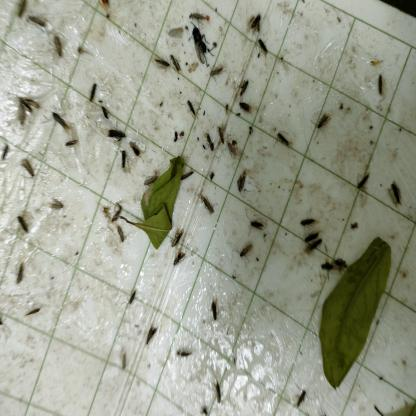prays_oleae: (13, 95, 41, 127), (388, 166, 406, 213), (47, 104, 72, 133), (12, 255, 30, 292), (18, 151, 36, 186), (245, 9, 265, 40), (232, 168, 251, 200), (25, 12, 48, 36), (51, 32, 68, 63), (302, 239, 323, 264), (198, 189, 216, 217), (293, 385, 310, 414), (168, 52, 184, 81), (316, 110, 333, 136), (236, 239, 253, 265), (176, 343, 195, 366), (213, 375, 226, 408), (106, 124, 126, 145), (14, 212, 30, 238), (170, 226, 187, 250), (249, 215, 267, 237), (277, 128, 292, 154), (22, 304, 42, 323), (200, 127, 215, 152), (47, 192, 64, 214), (59, 134, 78, 153), (116, 146, 131, 170), (257, 37, 272, 60), (108, 198, 123, 221), (356, 171, 373, 191), (209, 296, 221, 323), (375, 73, 386, 102), (139, 170, 161, 184), (128, 137, 142, 159), (144, 326, 158, 347), (116, 225, 130, 246), (225, 141, 239, 162), (299, 210, 315, 228), (320, 258, 334, 278), (216, 122, 226, 150), (209, 66, 226, 82), (188, 10, 206, 25), (87, 82, 99, 103), (186, 94, 196, 118), (126, 291, 139, 309), (180, 172, 198, 184), (173, 254, 187, 269), (120, 351, 128, 375), (240, 98, 251, 114), (304, 231, 320, 241)
